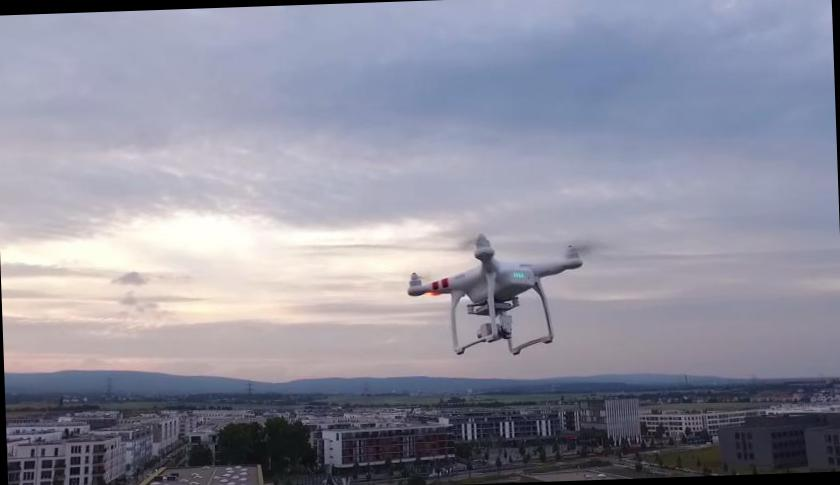drone: (402, 227, 590, 360)
